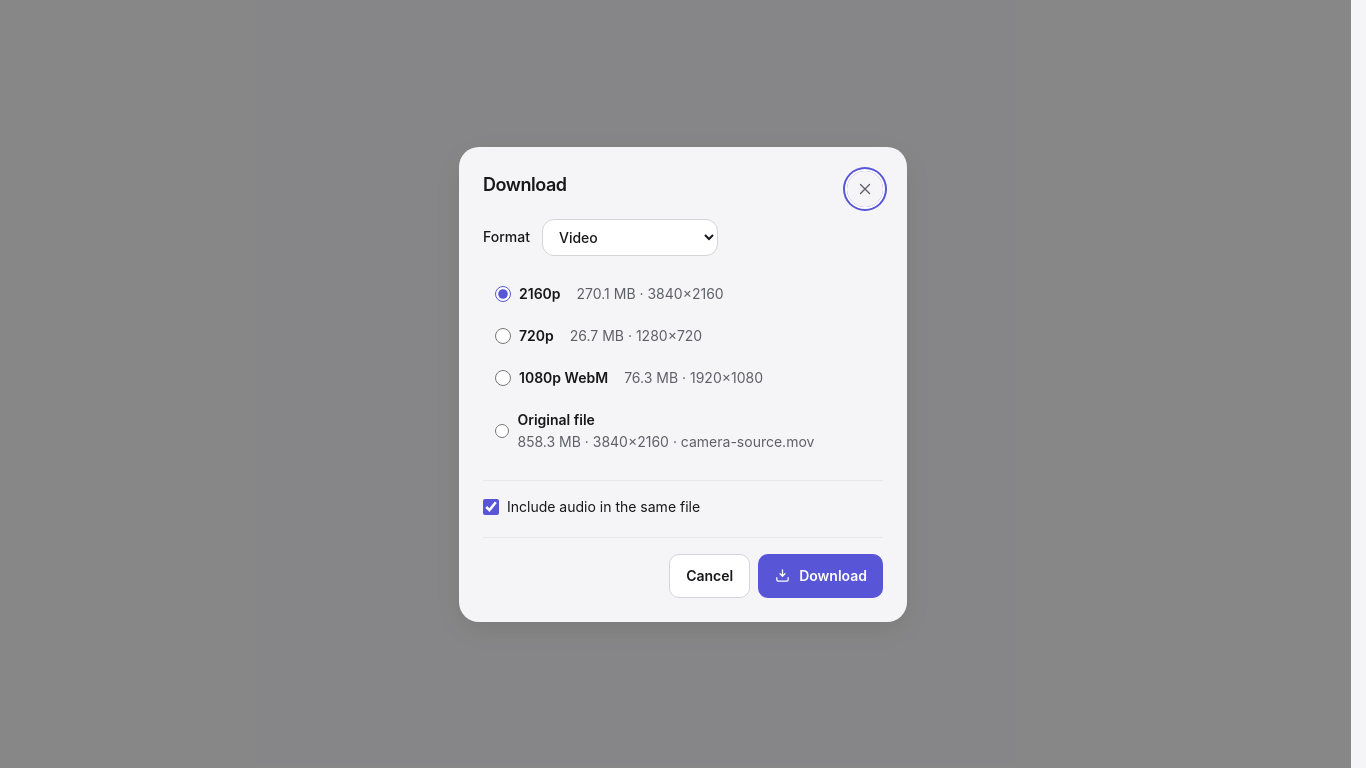
DownloadDialog › keeps the dialog open and reports an attachment download failure
The width and height of the screenshot is (1366, 768).
Expected: the radio button labelled "2160p 270.1 MB · 3840×2160" is shown, [495,286,511,302]
Click the button "Download".
click(821, 576)  # box [758,554,883,598]
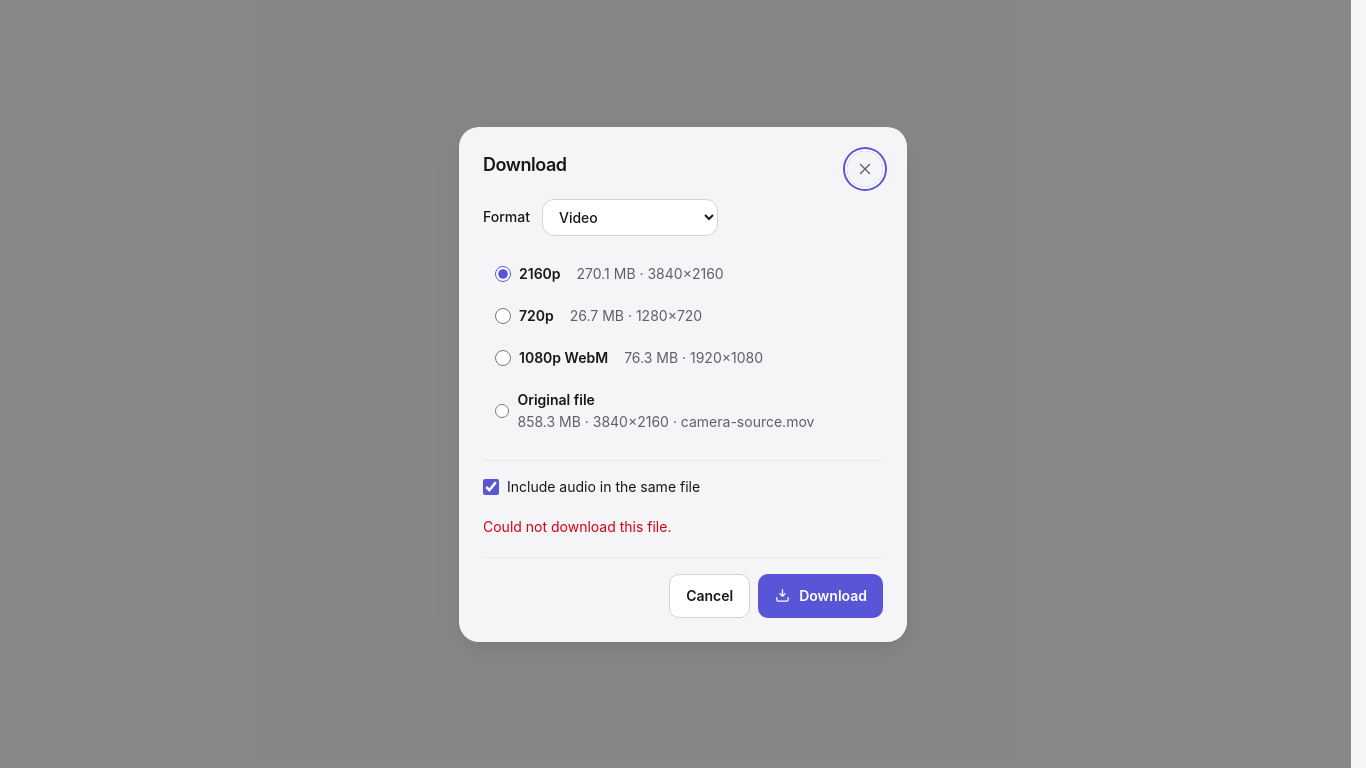
Expected: the dialog "Download" is shown, [459,126,907,642]
Expected: the message reads "Could not download this file.", [483,518,672,534]
